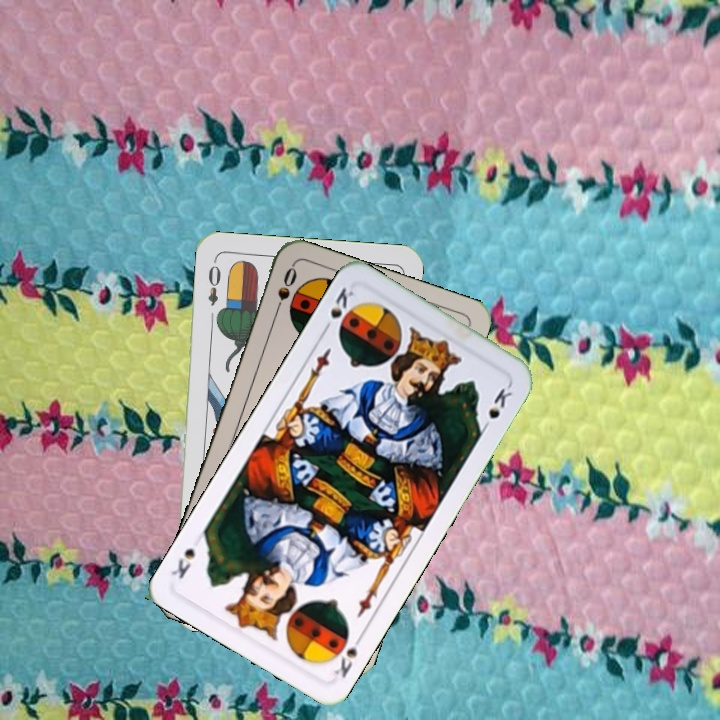EO: (203, 261, 224, 308)
SK: (326, 626, 367, 681), (318, 283, 357, 336)
SO: (270, 262, 300, 320)
